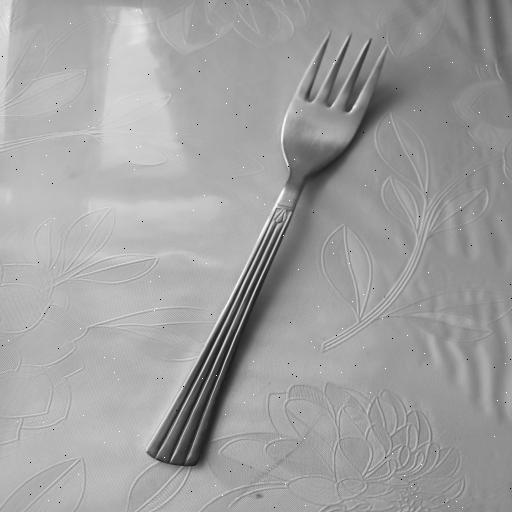fork: (140, 30, 390, 468)
